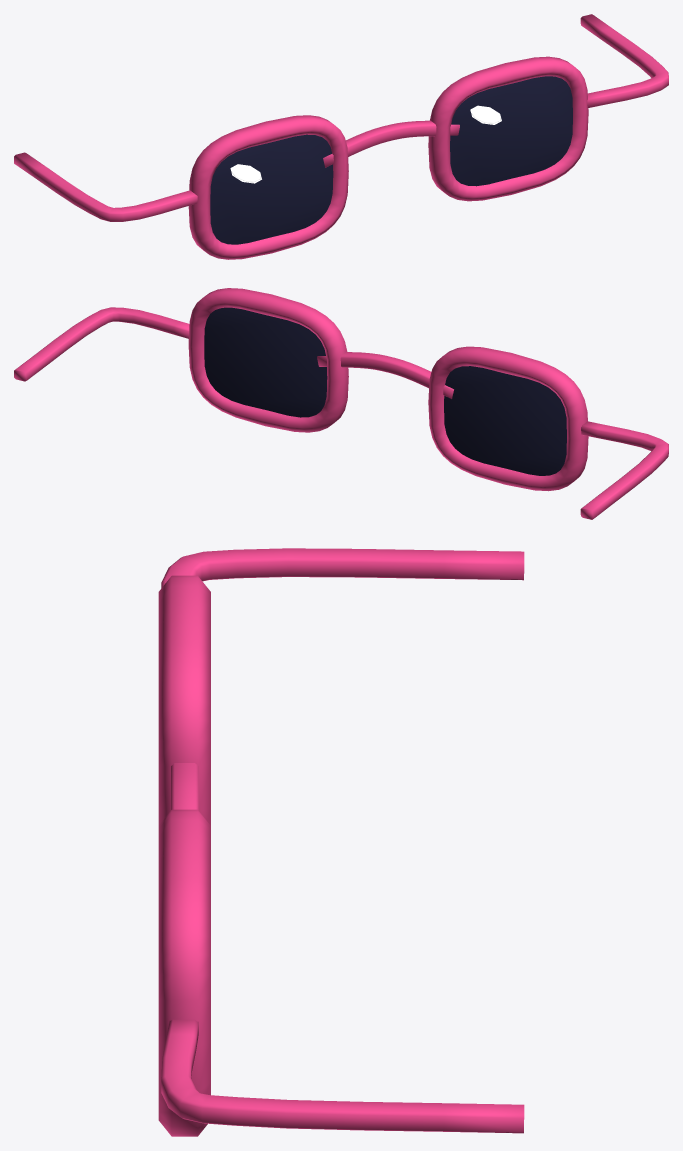
The model's file is sunglasses-cat.glb.
The picture shows the model from 3 angles, top to bottom: view 1: azimuth 30°, elevation 25°; view 2: azimuth 150°, elevation 25°; view 3: azimuth 270°, elevation 25°; orthographic projection. The views are drawn at different scales.
Parts seen in each view (by area): view 1: lens.001, lens, rim.001, rim, temple.001, temple, bridge, shine.001, shine; view 2: lens, lens.001, rim, rim.001, temple, temple.001, bridge; view 3: rim, temple, rim.001, temple.001, bridge.
Part boxes in pixels (x1,y1,x2,y2): lens.001: (210,134,333,244); lens: (450,76,572,186); rim.001: (188,115,348,259); rim: (428,56,588,201); temple.001: (14,152,197,221); temple: (580,14,668,107); bridge: (323,120,459,167); shine.001: (230,164,261,183); shine: (470,105,501,124); lens: (204,307,327,417); lens.001: (444,366,566,475); rim: (188,288,348,432); rim.001: (428,346,588,491); temple: (14,307,189,381); temple.001: (580,421,668,519); bridge: (317,352,453,398); rim: (158,809,210,1136); temple: (161,1019,524,1133); rim.001: (158,575,210,825); temple.001: (161,548,524,587); bridge: (171,763,198,809).
Size of the model in its own units: 1.33 by 0.2784 by 0.3633.
